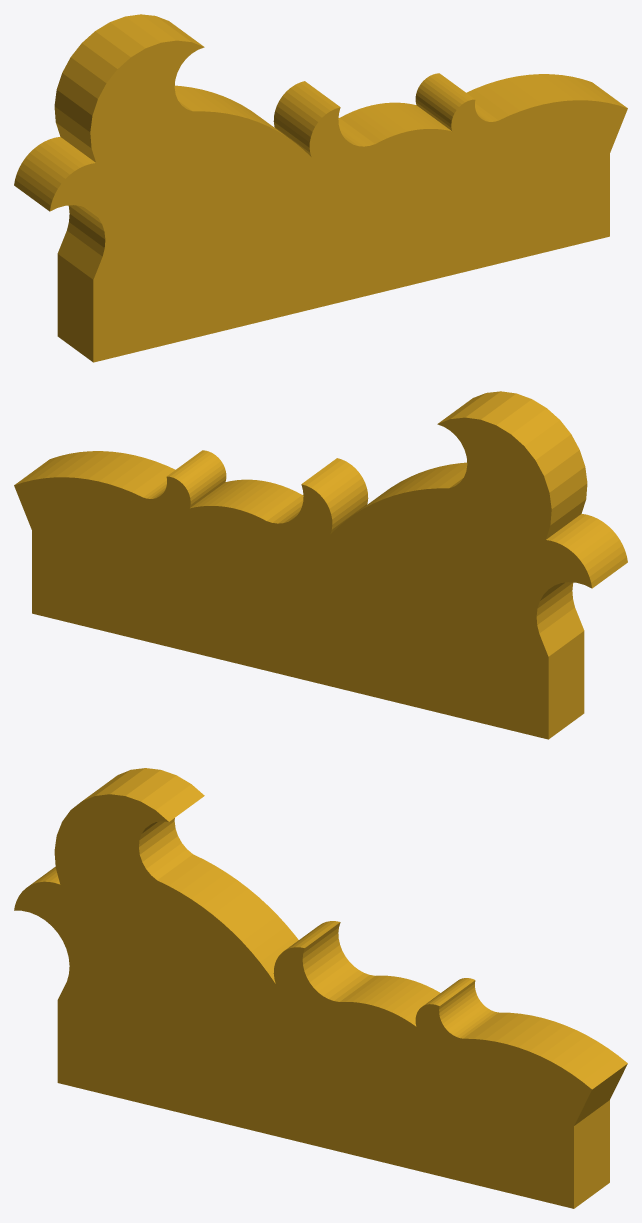
Rendered from Prop_Building_Eastern_Ornamental_Facade_Block_06.FBX.
The picture shows the model from 3 angles, top to bottom: view 1: azimuth 30°, elevation 25°; view 2: azimuth 150°, elevation 25°; view 3: azimuth 330°, elevation 25°; orthographic projection.
Parts seen in each view (by area): view 1: Prop_Building_Eastern_Ornamental_Facade_Block_06; view 2: Prop_Building_Eastern_Ornamental_Facade_Block_06; view 3: Prop_Building_Eastern_Ornamental_Facade_Block_06.
Part boxes in pixels (<box>): Prop_Building_Eastern_Ornamental_Facade_Block_06: <box>14,14,627,362</box>; Prop_Building_Eastern_Ornamental_Facade_Block_06: <box>14,391,627,739</box>; Prop_Building_Eastern_Ornamental_Facade_Block_06: <box>14,768,627,1208</box>.
Size of the model in its own units: 2451 by 1229 by 263.
